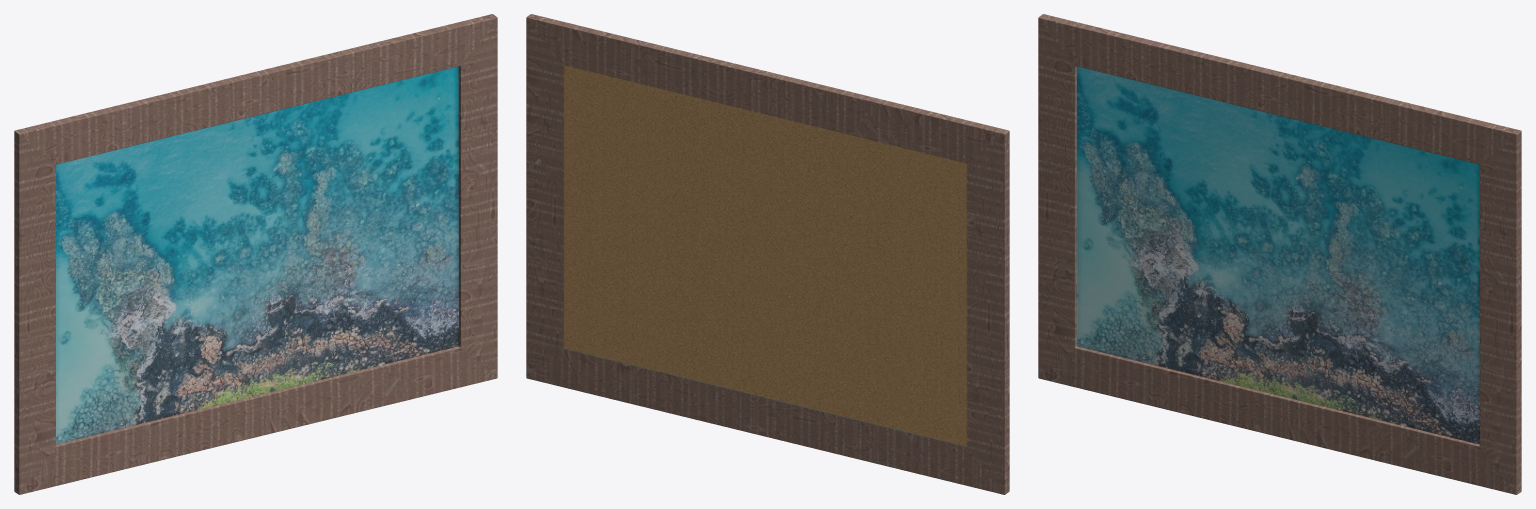
The model's file is abo-B075YLG1B5.glb.
The picture shows the model from 3 angles, left to right: view 1: azimuth 30°, elevation 25°; view 2: azimuth 150°, elevation 25°; view 3: azimuth 330°, elevation 25°; orthographic projection.
Bounding box in the file's own units: 1.06 × 0.761 × 0.02.
1 material, 1 textured.
